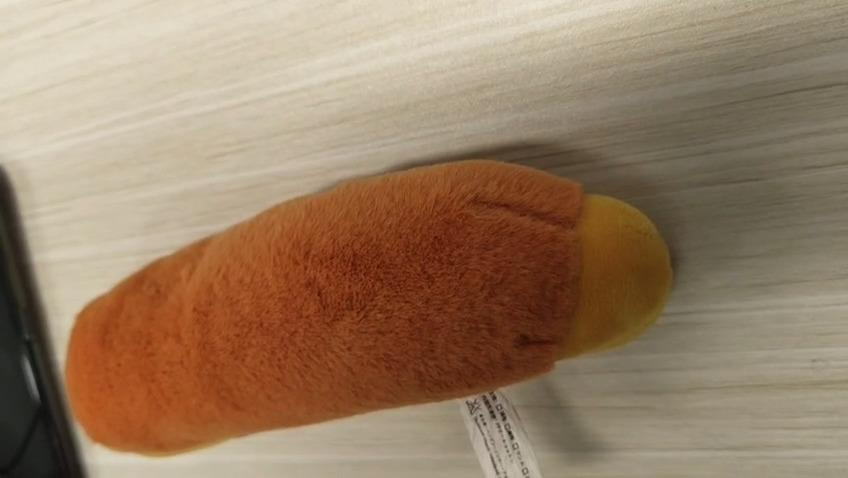hotdog: (65, 158, 678, 456)
